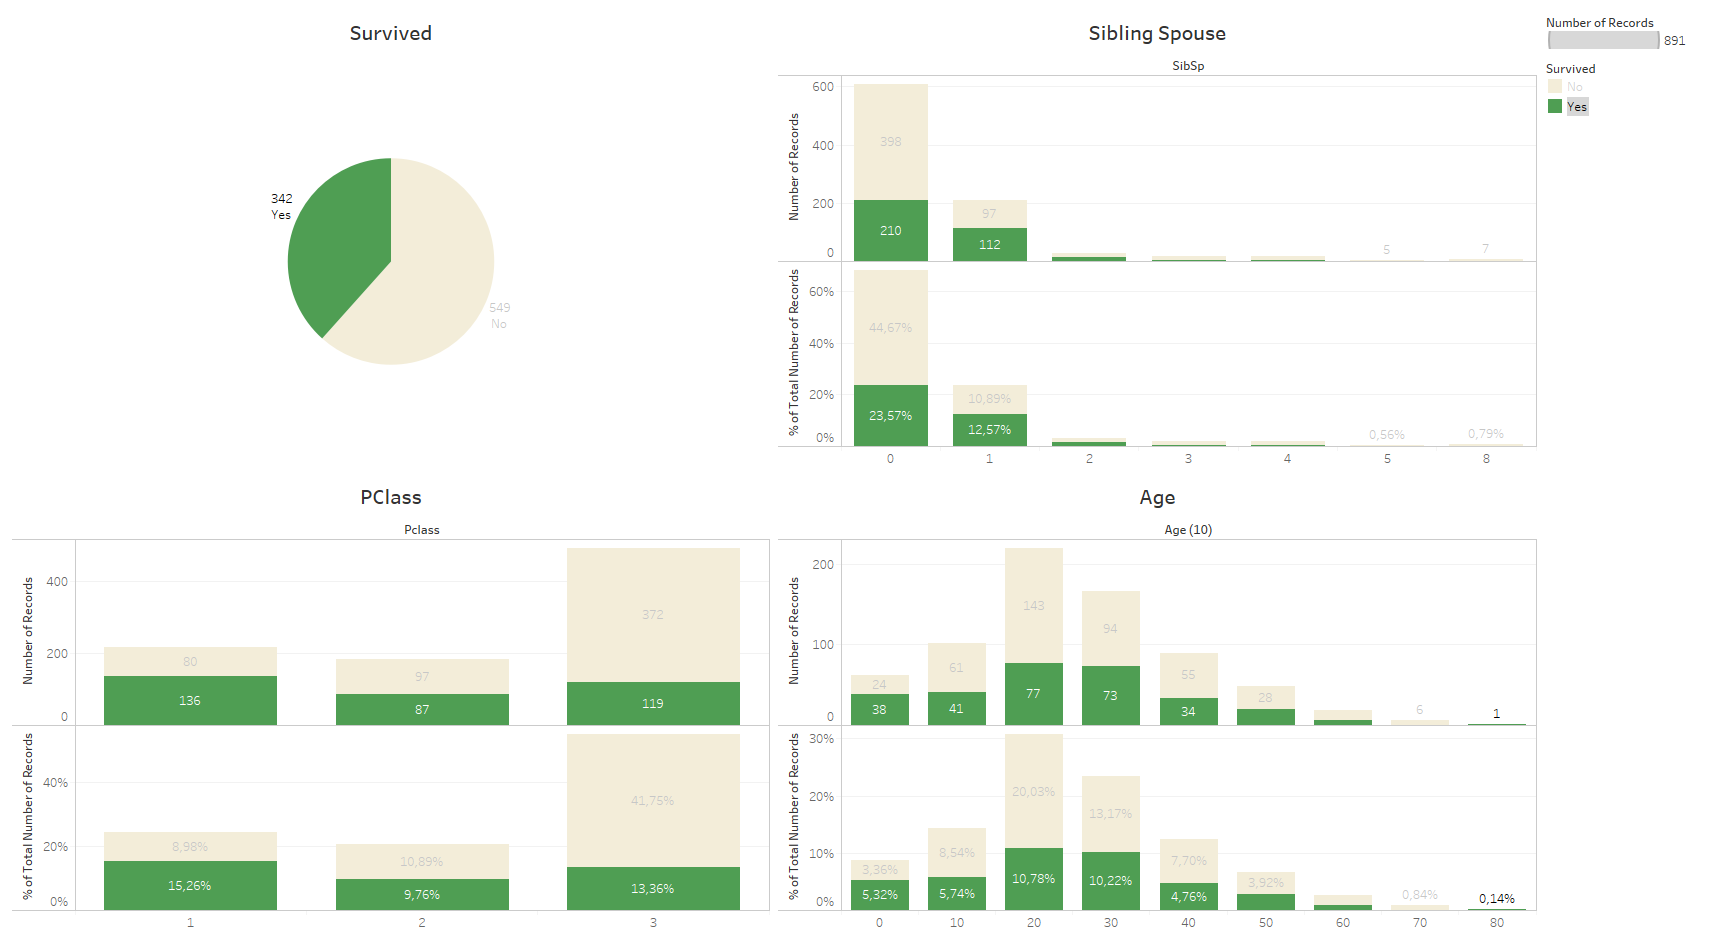

The page's visual inventory and layout, read from the dashboard file:
{"tool":"tableau","page":{"name":"Report","canvas":[1000,1000],"units":"permille","ordinal":0},"visuals":[{"type":"worksheet","title":"Survived","mark":"Pie","box":[4.7,8.5,448.5,491.5]},{"type":"worksheet","title":"Sibling Spouse","mark":"Automatic","rows":["Number of Records","Number of Records"],"cols":["SibSp"],"box":[453.2,8.5,448.6,491.5]},{"type":"legend","title":"Survived","param":"[federated.1k5ihd51cbc3k113dtytt191uhcs].[sum:Number of Records:qk]","box":[901.7,8.5,93.6,48.7]},{"type":"legend","title":"Survived","param":"[federated.1k5ihd51cbc3k113dtytt191uhcs].[none:Survived:ok]","box":[901.7,57.2,93.6,69.9]},{"type":"worksheet","title":"PClass","mark":"Automatic","rows":["Number of Records","Number of Records"],"cols":["Pclass"],"box":[4.7,500,448.5,491.6]},{"type":"worksheet","title":"Age","mark":"Automatic","rows":["Number of Records","Number of Records"],"cols":["Age (bin)"],"box":[453.2,500,448.6,491.6]}]}

Visuals, with their boxes on the dashboard's canvas, which has no fixed pixel size, in thousandths of its width and height (x1, y1, x2, y2). These are canvas units, not pixel positions in the 1709x944 screenshot, which may show the page scaled, cropped or inside an application window:
"Survived" worksheet (Pie marks): crop(5, 8, 453, 500)
"Sibling Spouse" worksheet: crop(453, 8, 902, 500)
"Survived" legend: crop(902, 8, 995, 57)
"Survived" legend: crop(902, 57, 995, 127)
"PClass" worksheet: crop(5, 500, 453, 992)
"Age" worksheet: crop(453, 500, 902, 992)
